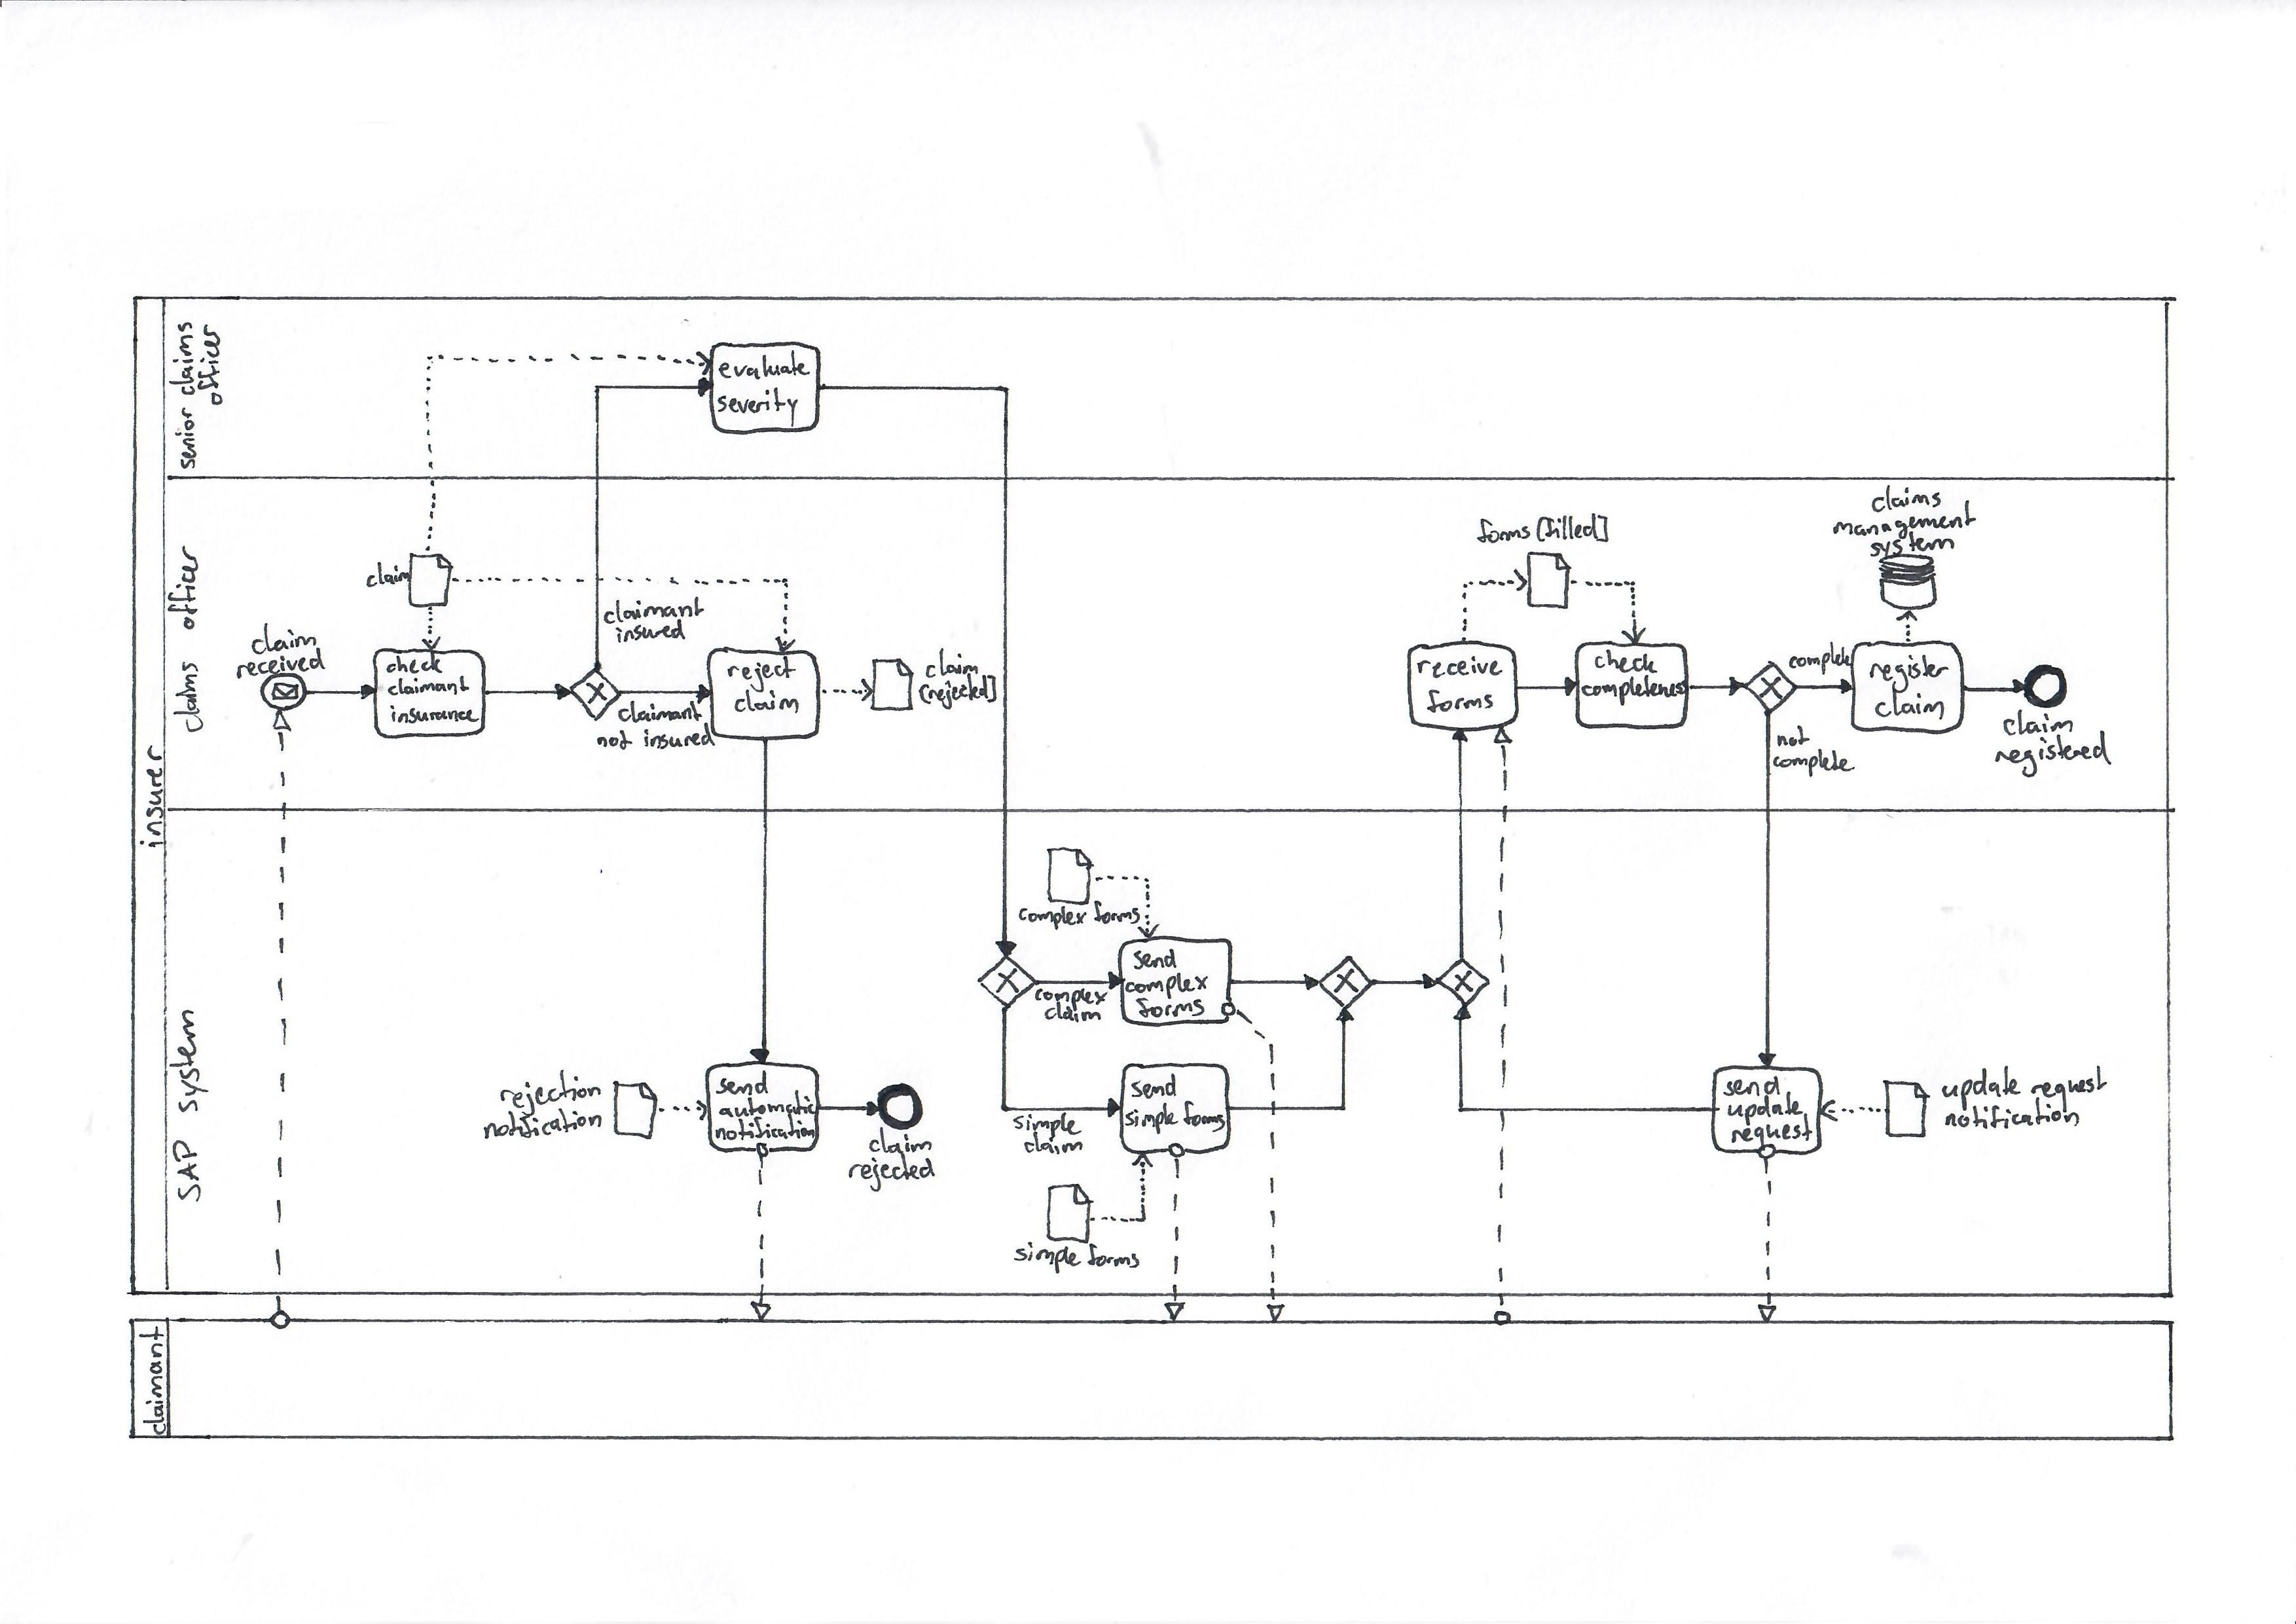SAP: (174, 1128, 206, 1200)
Send: (1130, 949, 1176, 970)
System: (172, 1005, 206, 1113)
[filled]: (1533, 513, 1619, 545)
[rejected]: (914, 677, 1004, 710)
automatic: (721, 1090, 817, 1120)
check: (1596, 649, 1660, 677), (387, 656, 443, 675)
claim: (2001, 714, 2074, 740), (251, 629, 318, 657), (923, 654, 981, 684), (868, 1134, 932, 1158), (737, 692, 800, 717), (364, 561, 415, 591), (1878, 700, 1950, 721), (1023, 1137, 1088, 1156), (1044, 1004, 1102, 1023)
claimant: (142, 1320, 172, 1434), (603, 598, 705, 624), (617, 703, 708, 726), (387, 677, 469, 698)
claims: (172, 645, 206, 733), (172, 322, 200, 399), (1872, 489, 1943, 513)
complete: (1784, 643, 1858, 678), (1772, 750, 1856, 777)
completeness: (1579, 677, 1684, 701)
complex: (1123, 972, 1208, 998), (1018, 905, 1088, 930), (1034, 988, 1108, 1007)
evaluate: (716, 355, 812, 385)
forms: (1473, 517, 1531, 548), (1426, 689, 1494, 714), (1139, 997, 1206, 1021), (1083, 1246, 1139, 1274), (1178, 1104, 1227, 1130), (1090, 909, 1137, 933)
insurance: (387, 705, 480, 726)
insured: (610, 622, 693, 649), (638, 728, 716, 752)
insurer: (141, 745, 169, 851)
management: (1820, 508, 1978, 538)
not: (596, 729, 635, 752), (1777, 733, 1813, 752)
notification: (482, 1107, 603, 1148), (1943, 1104, 2085, 1134), (714, 1116, 816, 1144)
officer: (171, 548, 202, 631), (199, 323, 229, 406)
receive: (1415, 656, 1505, 682)
received: (234, 650, 323, 680)
register: (1867, 656, 1950, 685)
registered: (1995, 731, 2117, 775)
reject: (726, 661, 802, 685)
rejected: (851, 1158, 937, 1185)
rejection: (490, 1072, 603, 1109)
request: (2027, 1067, 2108, 1102), (1732, 1120, 1813, 1146)
send: (1127, 1076, 1181, 1104), (1723, 1076, 1781, 1098), (716, 1074, 770, 1097)
senior: (172, 404, 202, 473)
severity: (716, 390, 796, 418)
simple: (1013, 1241, 1079, 1272), (1013, 1114, 1083, 1141), (1120, 1100, 1174, 1132)
system: (1871, 534, 1957, 559)
update: (1943, 1070, 2024, 1106), (1730, 1093, 1806, 1121)
